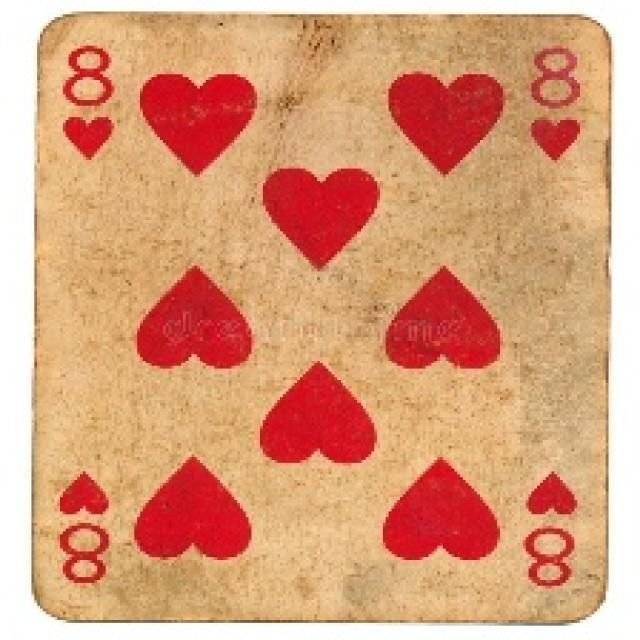Heart: (259, 358, 378, 466), (384, 264, 502, 370), (135, 455, 252, 561), (139, 73, 257, 177), (262, 166, 379, 270), (136, 265, 253, 369), (382, 457, 500, 560), (387, 72, 503, 175), (58, 470, 109, 515), (526, 472, 578, 516), (63, 116, 114, 160), (530, 118, 580, 162)
